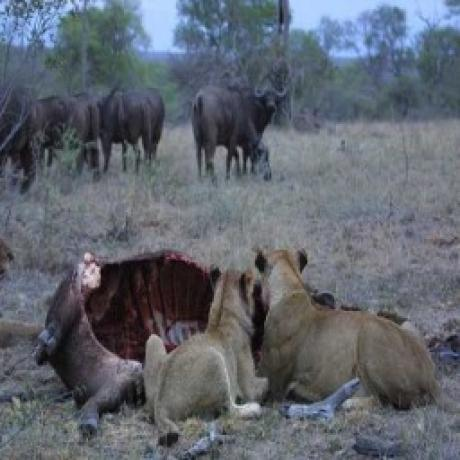Lion: (248, 245, 446, 411), (142, 260, 264, 432)
